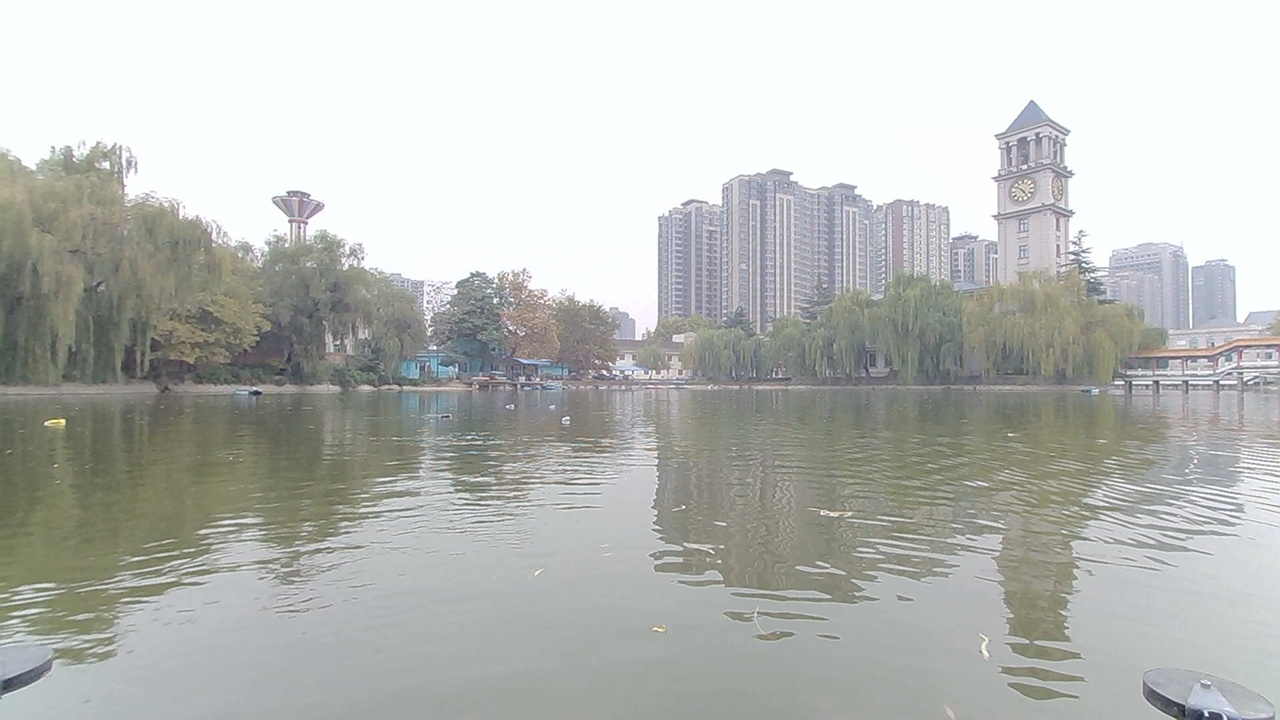bottle: (549, 407, 581, 430), (42, 412, 72, 436), (433, 405, 463, 427), (536, 393, 569, 410), (503, 398, 525, 417)
